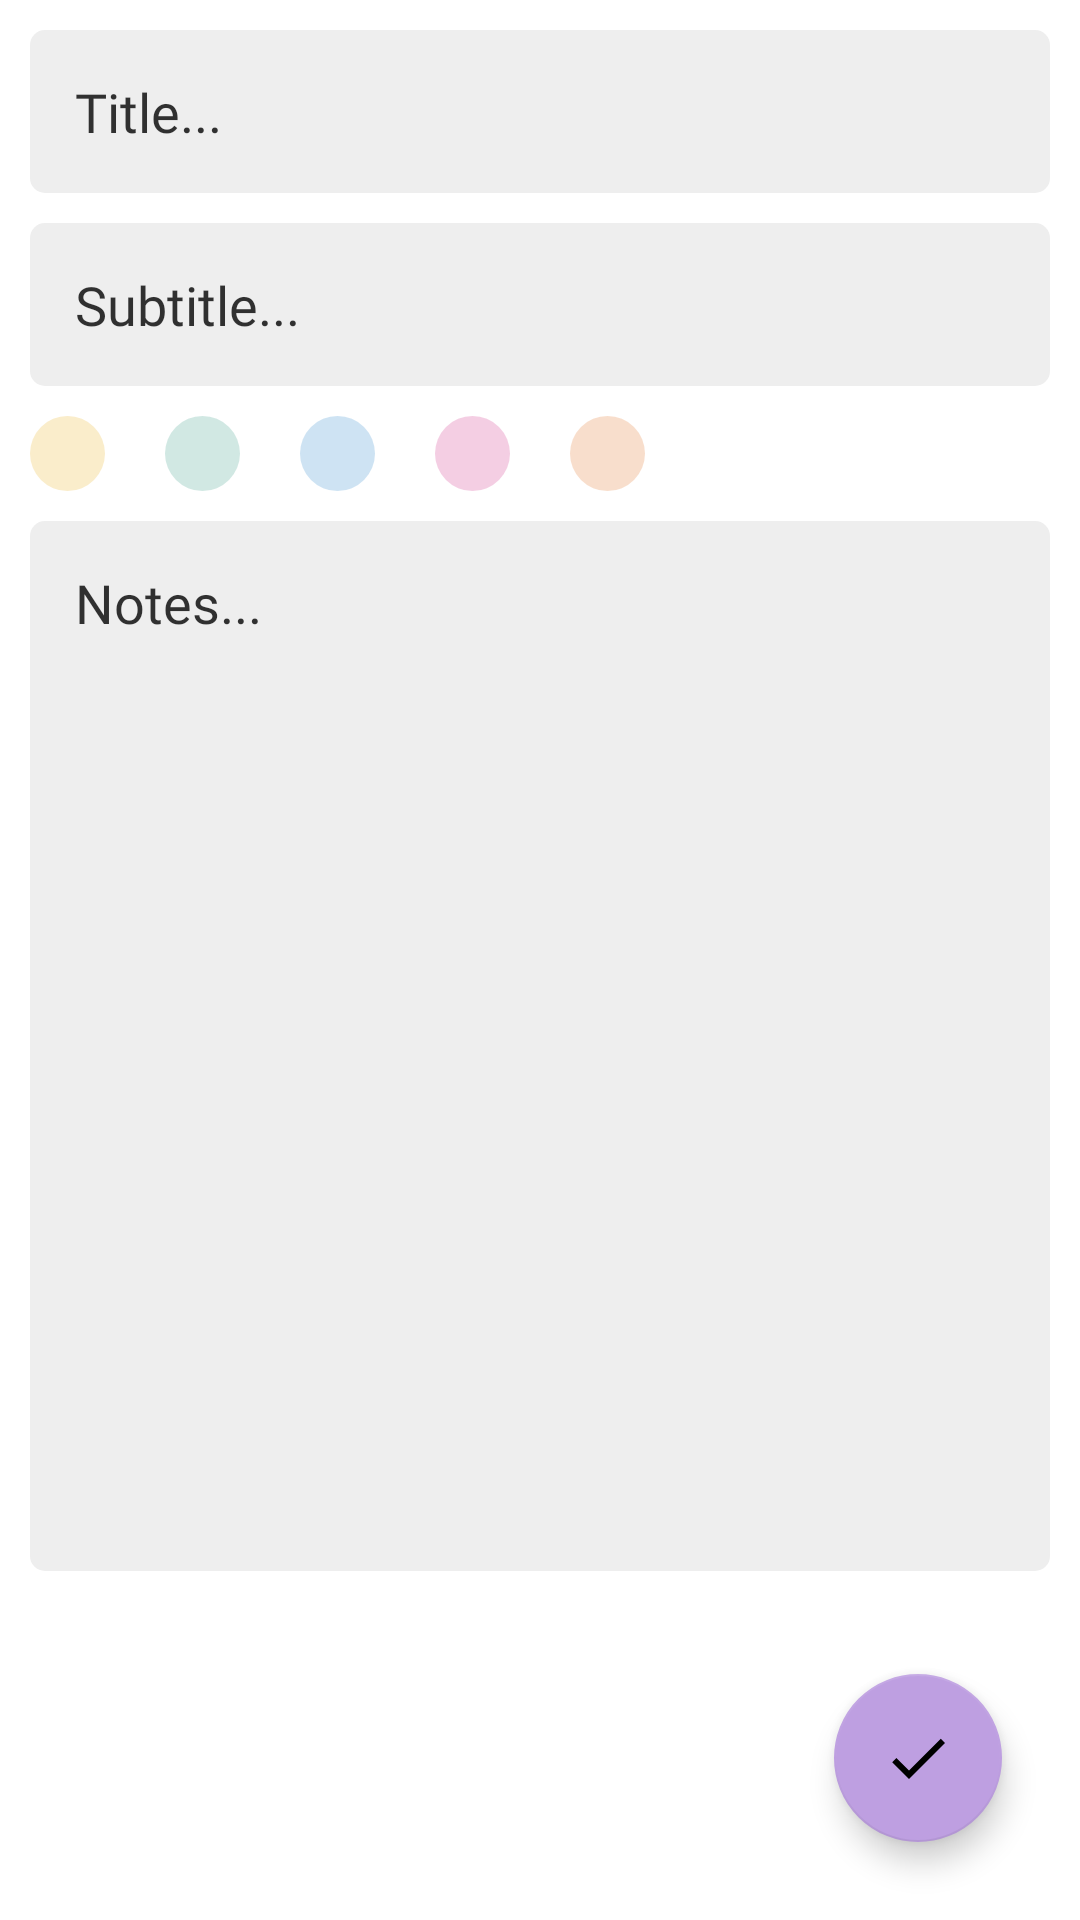

Where icons sit on this 1080 × 1920 app screen, as (x1, y1, x2, y2):
done: (834, 1674, 1002, 1842)
